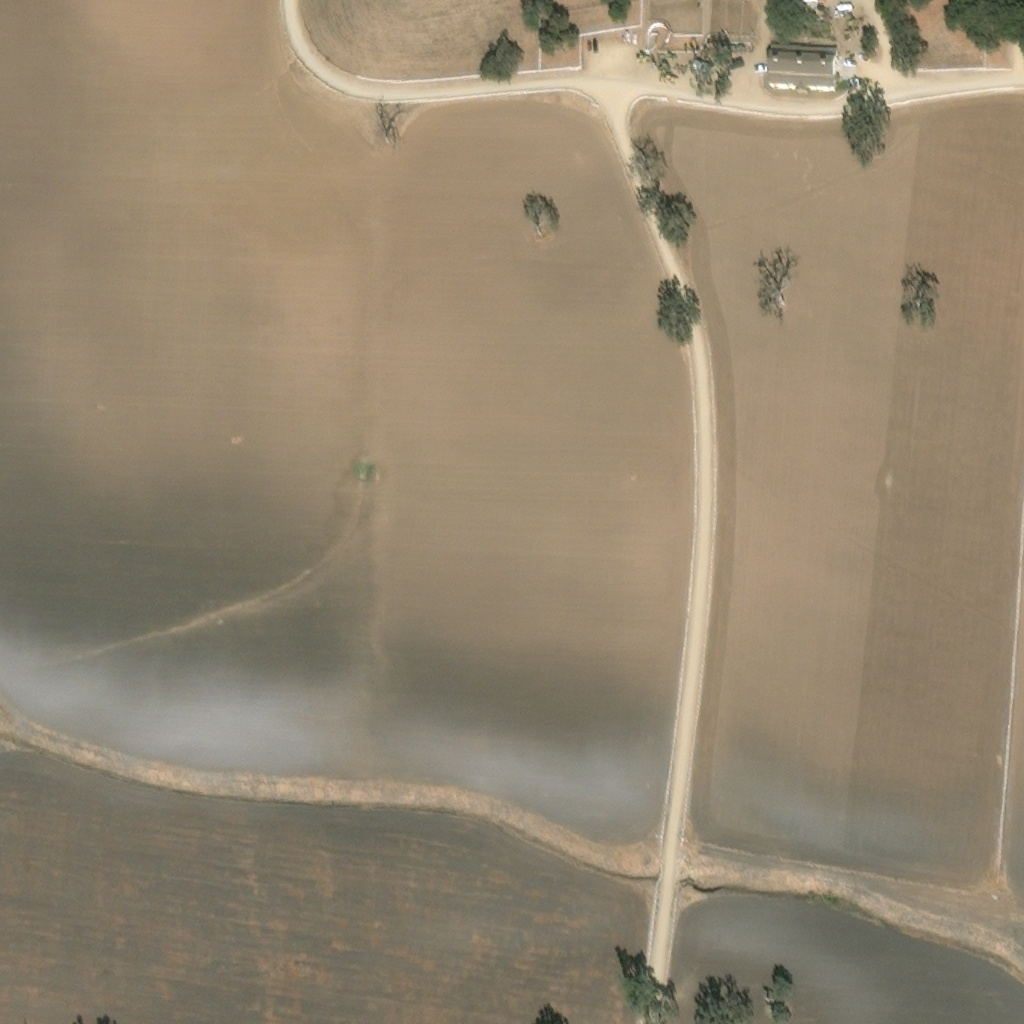0 no-damage: (769, 48, 837, 94)
4 un-classified: (751, 65, 769, 79), (847, 79, 863, 90)
